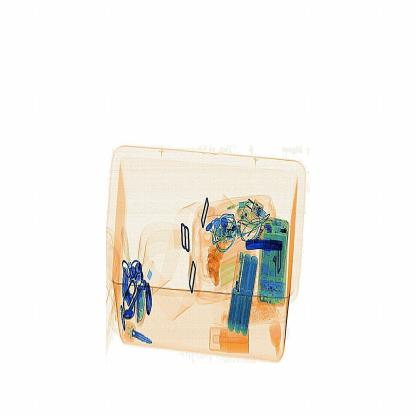knife: (242, 237, 284, 253)
